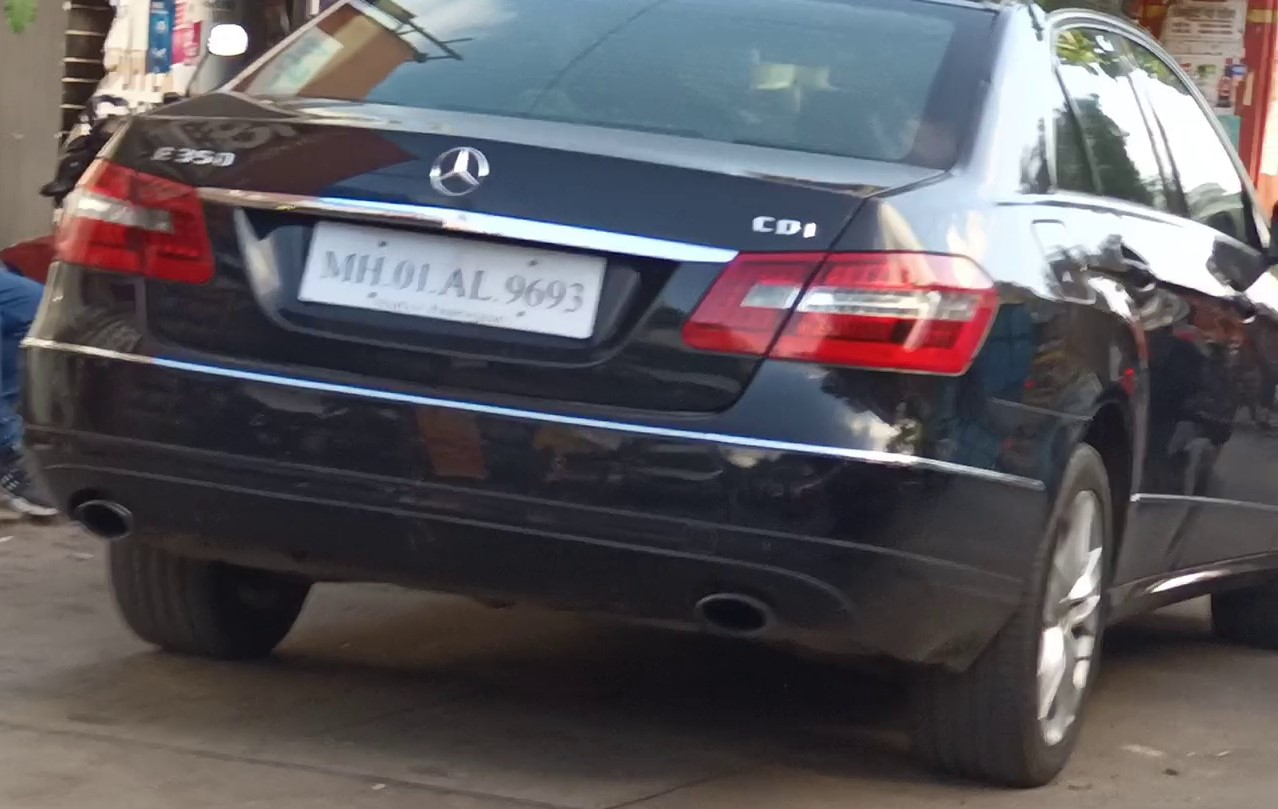MH01AL9693: (300, 218, 608, 337)
